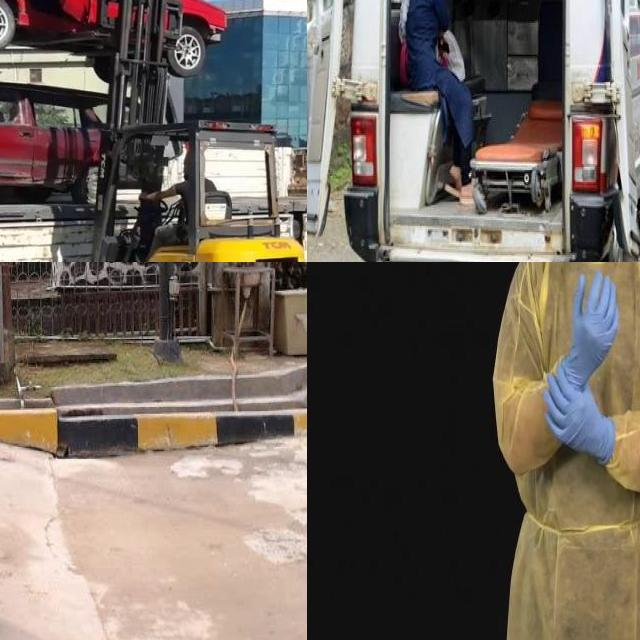Glove: (543, 366, 620, 469), (563, 276, 619, 382), (307, 18, 317, 52)
